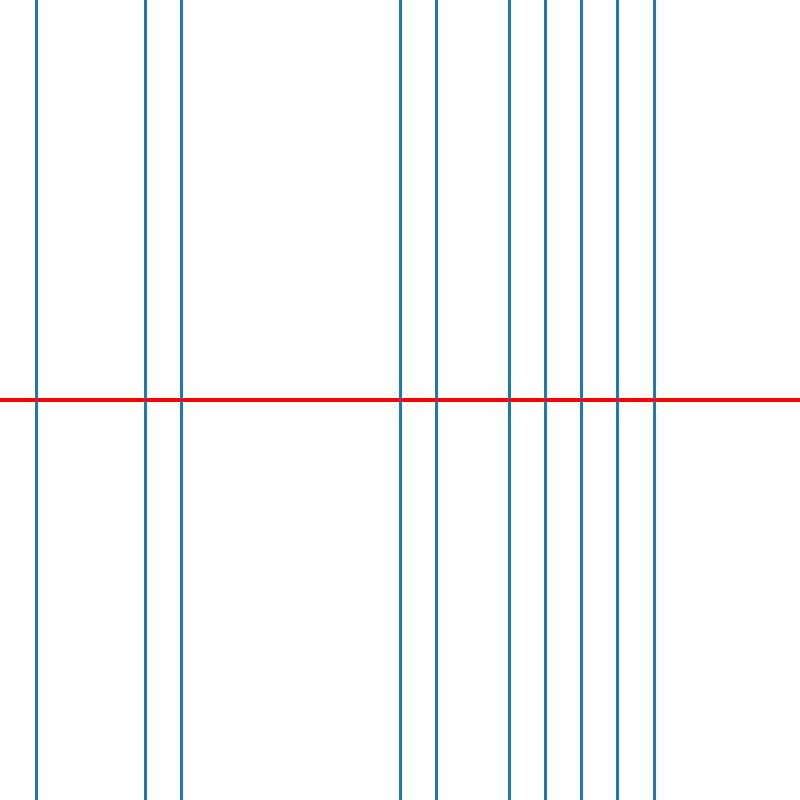root: (32, 396, 40, 404), (432, 396, 440, 404), (650, 396, 658, 404), (541, 396, 549, 404), (141, 396, 149, 404), (578, 396, 585, 404), (505, 396, 512, 404), (396, 396, 403, 404), (614, 396, 621, 404), (178, 396, 185, 404)
